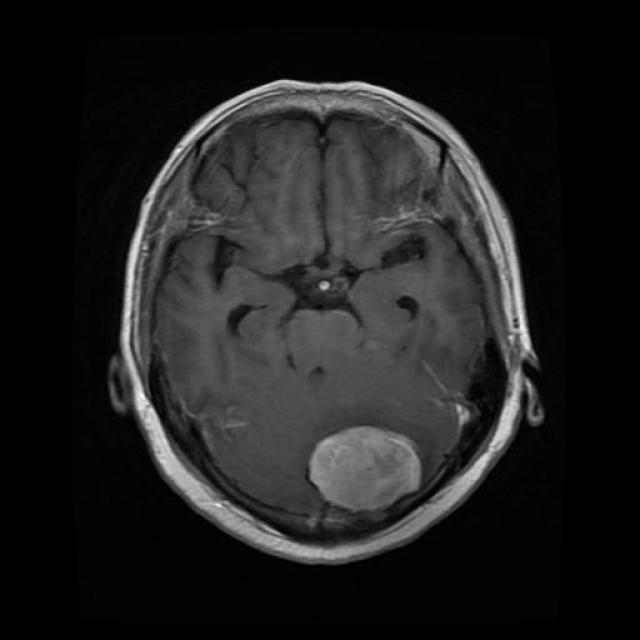meningioma: (309, 426, 425, 514)
